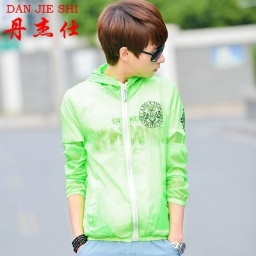face: (93, 2, 167, 81)
